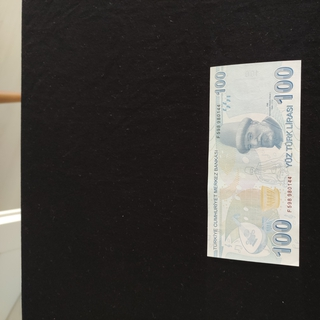100TLBack: (206, 59, 302, 268)
